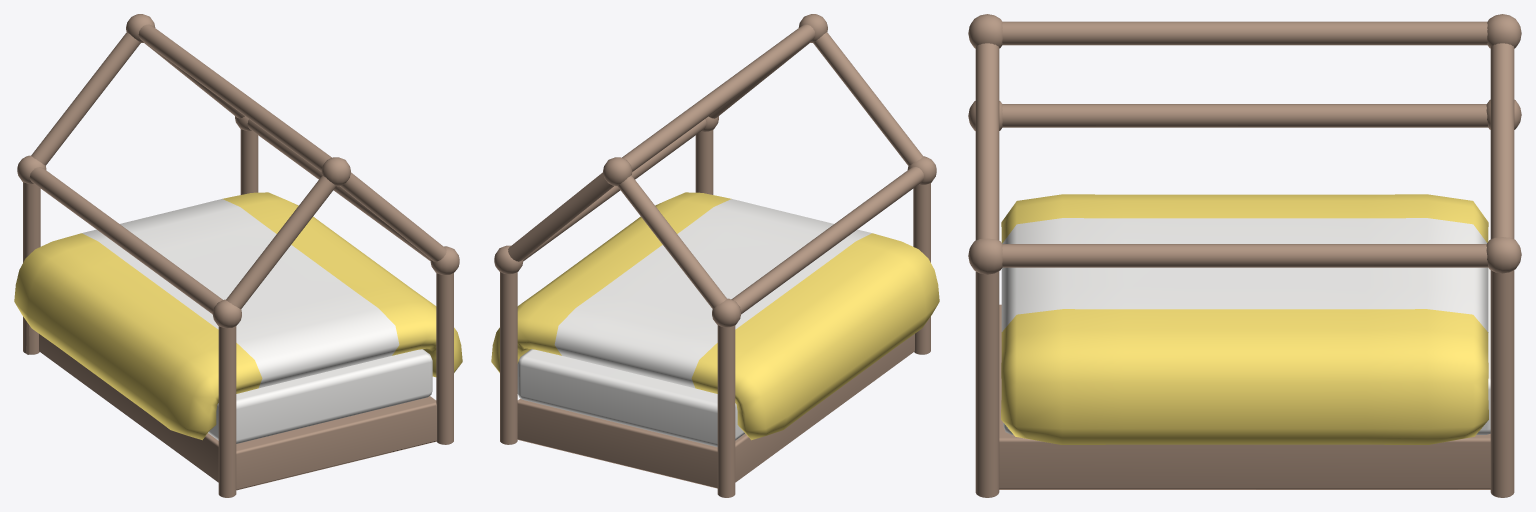
File: Bed_3.glb
The picture shows the model from 3 angles, left to right: view 1: azimuth 30°, elevation 25°; view 2: azimuth 150°, elevation 25°; view 3: azimuth 270°, elevation 25°; orthographic projection. The views are drawn at different scales.
Visible parts, largest first — view 1: Bed_3; view 2: Bed_3; view 3: Bed_3.
Part boxes in pixels (x1,y1,x2,y2): Bed_3: (14,14,462,497); Bed_3: (491,14,939,497); Bed_3: (968,14,1521,497).
Bounding box in the file's own units: 2.04 × 2.13 × 2.62.
1 material, 1 textured.
